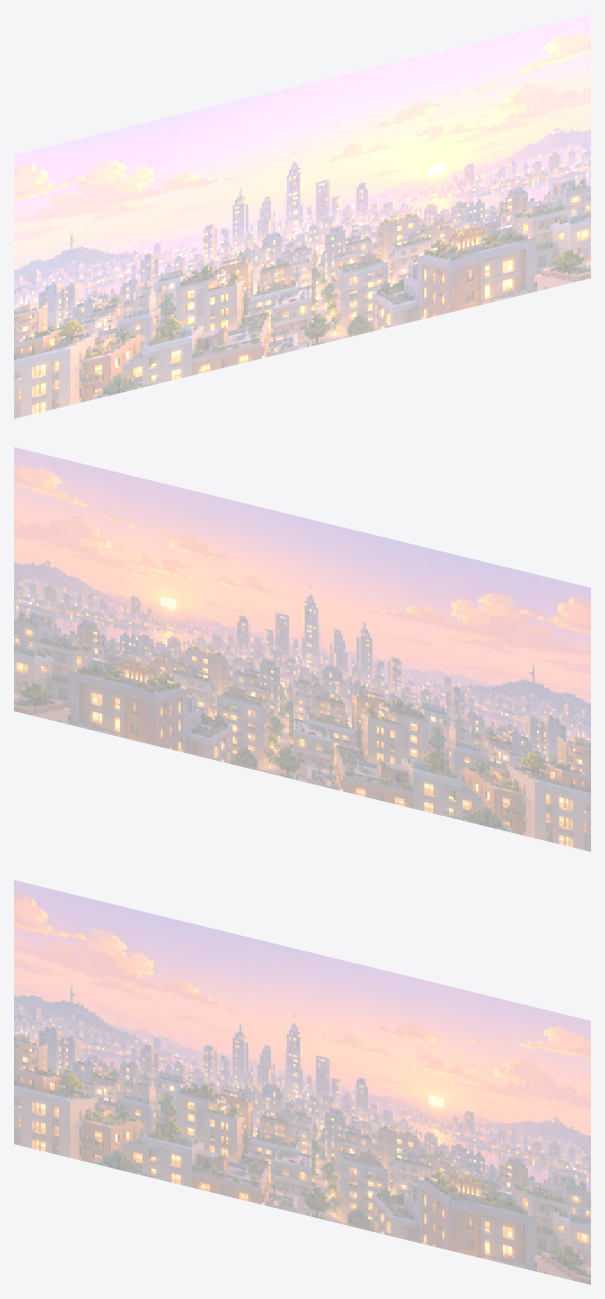
Rendered from scenery-test.glb.
The picture shows the model from 3 angles, top to bottom: view 1: azimuth 30°, elevation 25°; view 2: azimuth 150°, elevation 25°; view 3: azimuth 330°, elevation 25°; orthographic projection.
Visible parts, largest first — view 1: Sunset test; view 2: Sunset test; view 3: Sunset test.
Part boxes in pixels (bbox=[...]): Sunset test: bbox=[14, 14, 590, 418]; Sunset test: bbox=[14, 447, 590, 851]; Sunset test: bbox=[14, 880, 590, 1284].
Size of the model in its own units: 8 by 3.5 by 0.
